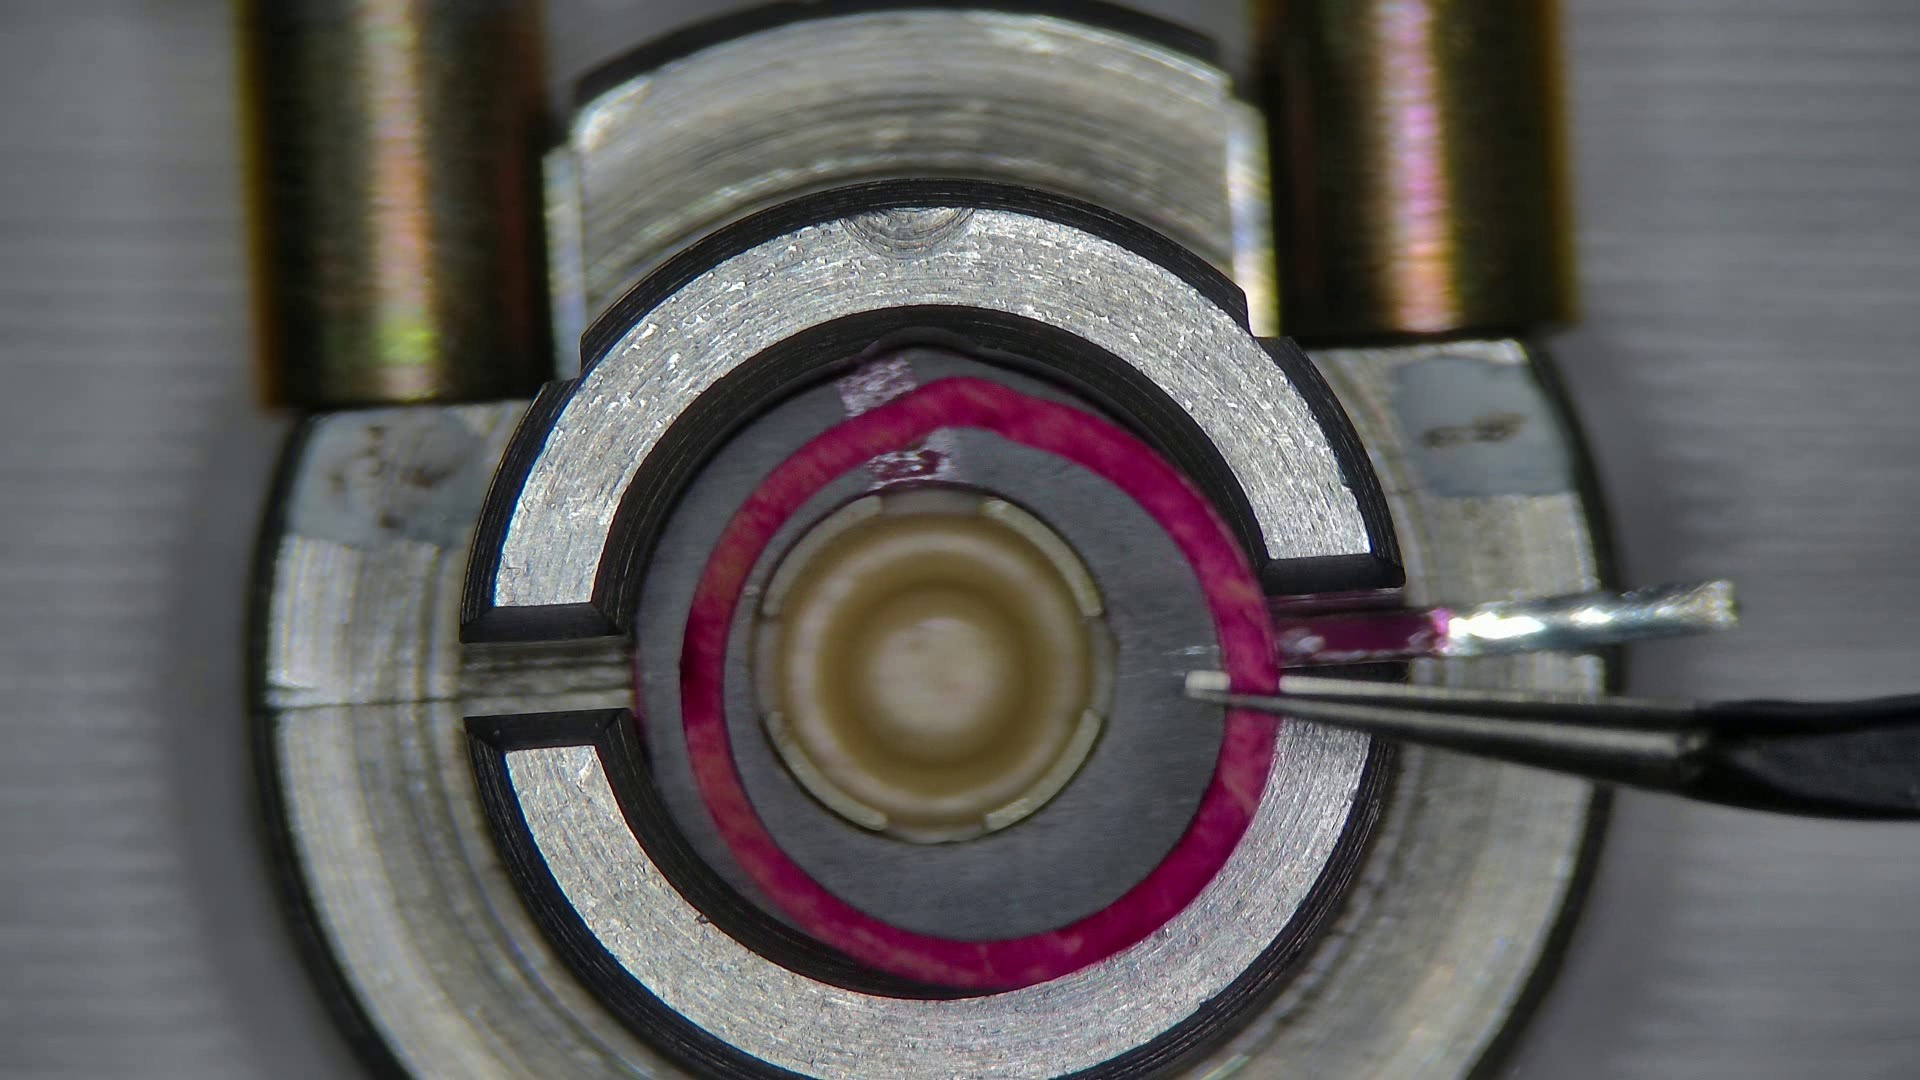GreyOring: (678, 372, 1276, 986)
YellowOring: (721, 427, 1220, 938), (640, 348, 1065, 890)
